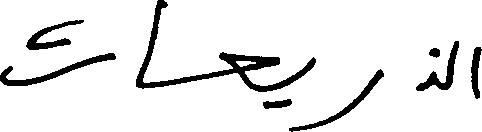X: (0, 15, 113, 90), (219, 47, 278, 113), (335, 64, 383, 124), (136, 0, 165, 93), (417, 43, 436, 95), (304, 52, 315, 131), (469, 42, 481, 103), (447, 36, 458, 94)
